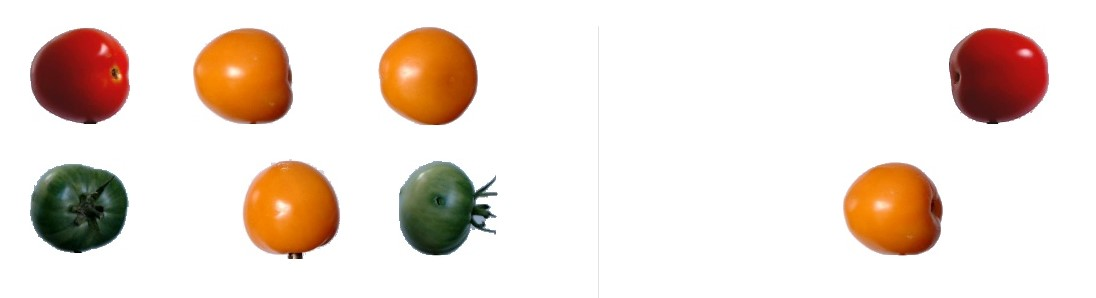green: (394, 161, 504, 255), (29, 163, 130, 246)
halfw: (842, 156, 947, 261), (376, 26, 483, 127), (191, 30, 295, 127), (246, 162, 346, 257)
red: (945, 20, 1057, 125), (26, 34, 147, 122)
